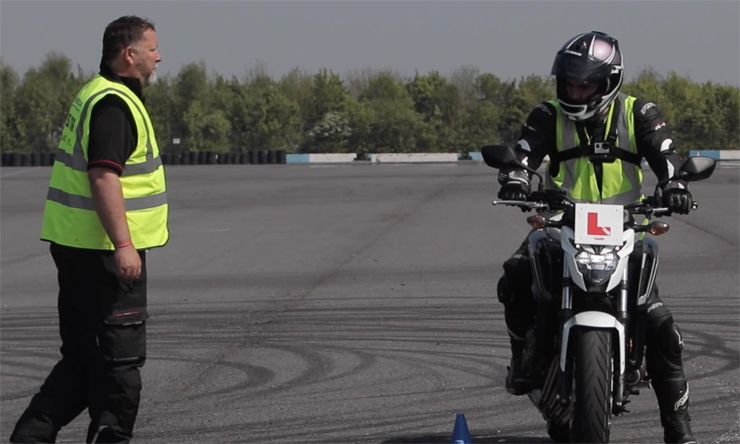helmet: (503, 26, 687, 322)
